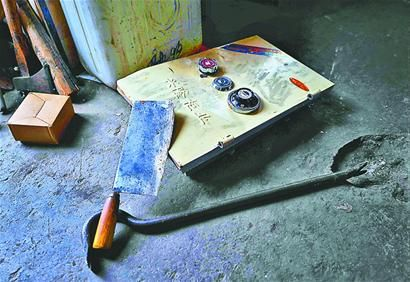knief: (92, 90, 175, 258)
